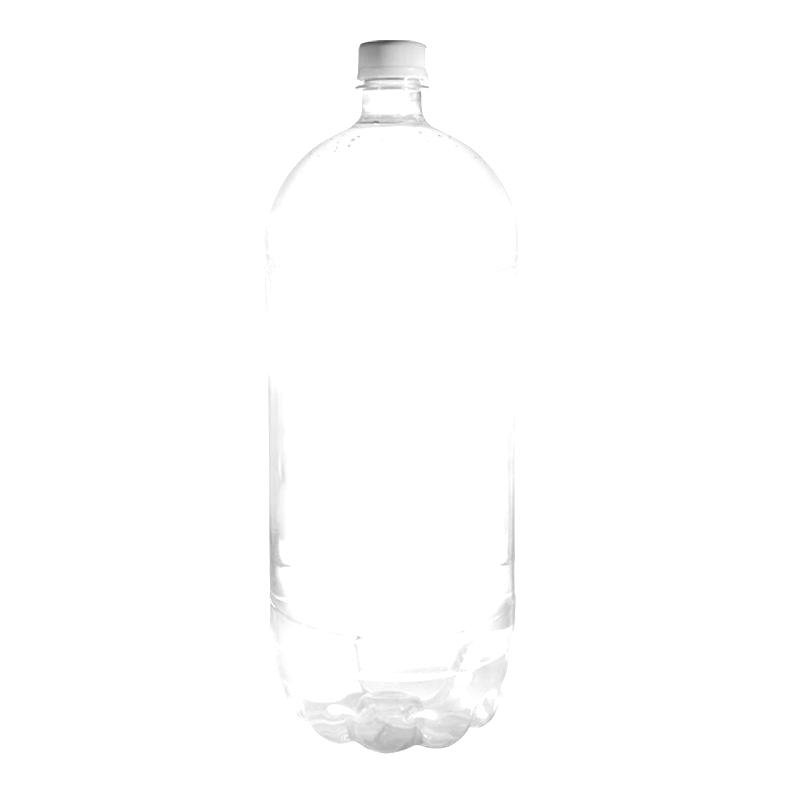bottle: (252, 25, 540, 754)
